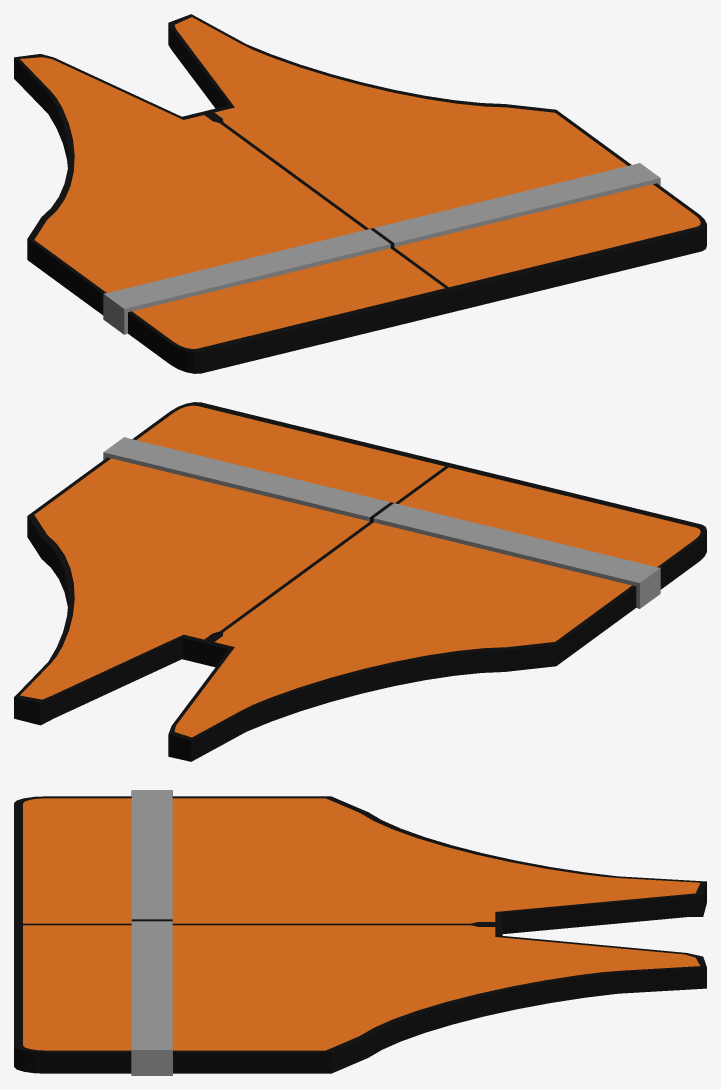
Rendered from WarningVests.fbx.
3 renders of one model, top to bottom at view 1: azimuth 30°, elevation 25°; view 2: azimuth 150°, elevation 25°; view 3: azimuth 270°, elevation 25°, orthographic.
Visible parts, largest first — view 1: Warning Vest; view 2: Warning Vest; view 3: Warning Vest.
Boxes of the visible parts, <box> form: Warning Vest: <box>14,14,706,373</box>; Warning Vest: <box>14,402,706,761</box>; Warning Vest: <box>14,790,706,1075</box>.
Size of the model in its own units: 48.43 by 2.41 by 54.56.
